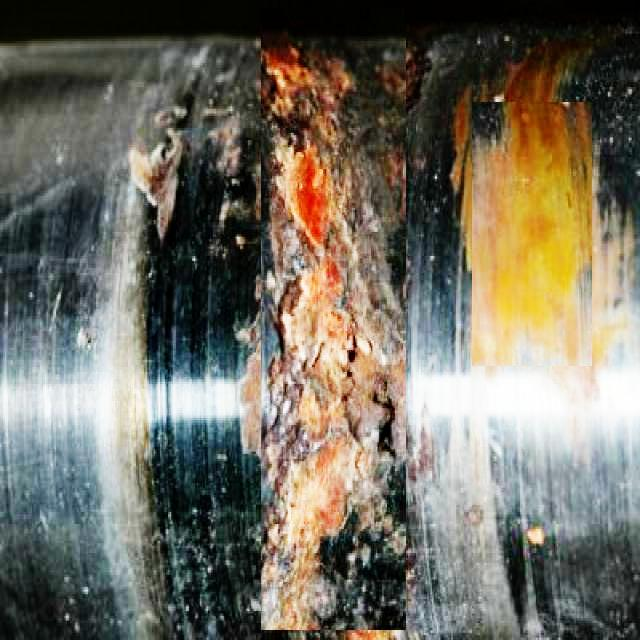Corrosion: (262, 36, 406, 631), (473, 100, 592, 366), (129, 128, 183, 241)
